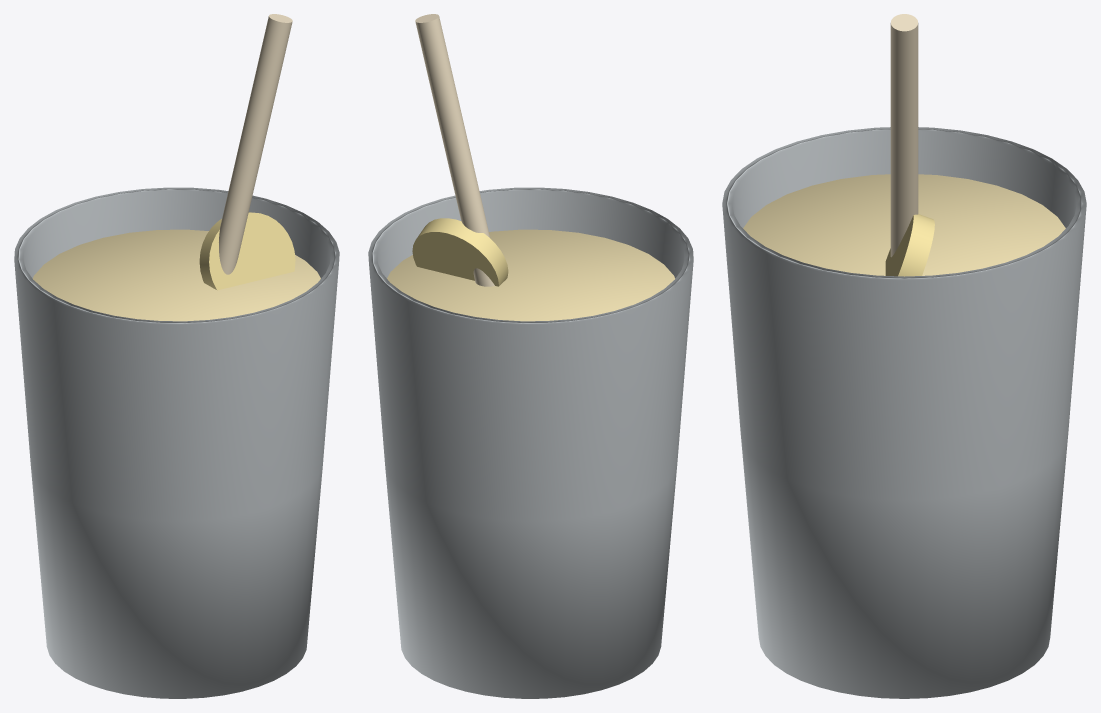
The model's file is alba-banana-bread-smoothie.glb.
3 renders of one model, left to right at view 1: azimuth 30°, elevation 25°; view 2: azimuth 150°, elevation 25°; view 3: azimuth 270°, elevation 25°, orthographic. The views are drawn at different scales.
Size of the model in its own units: 0.08 by 0.1633 by 0.08.
